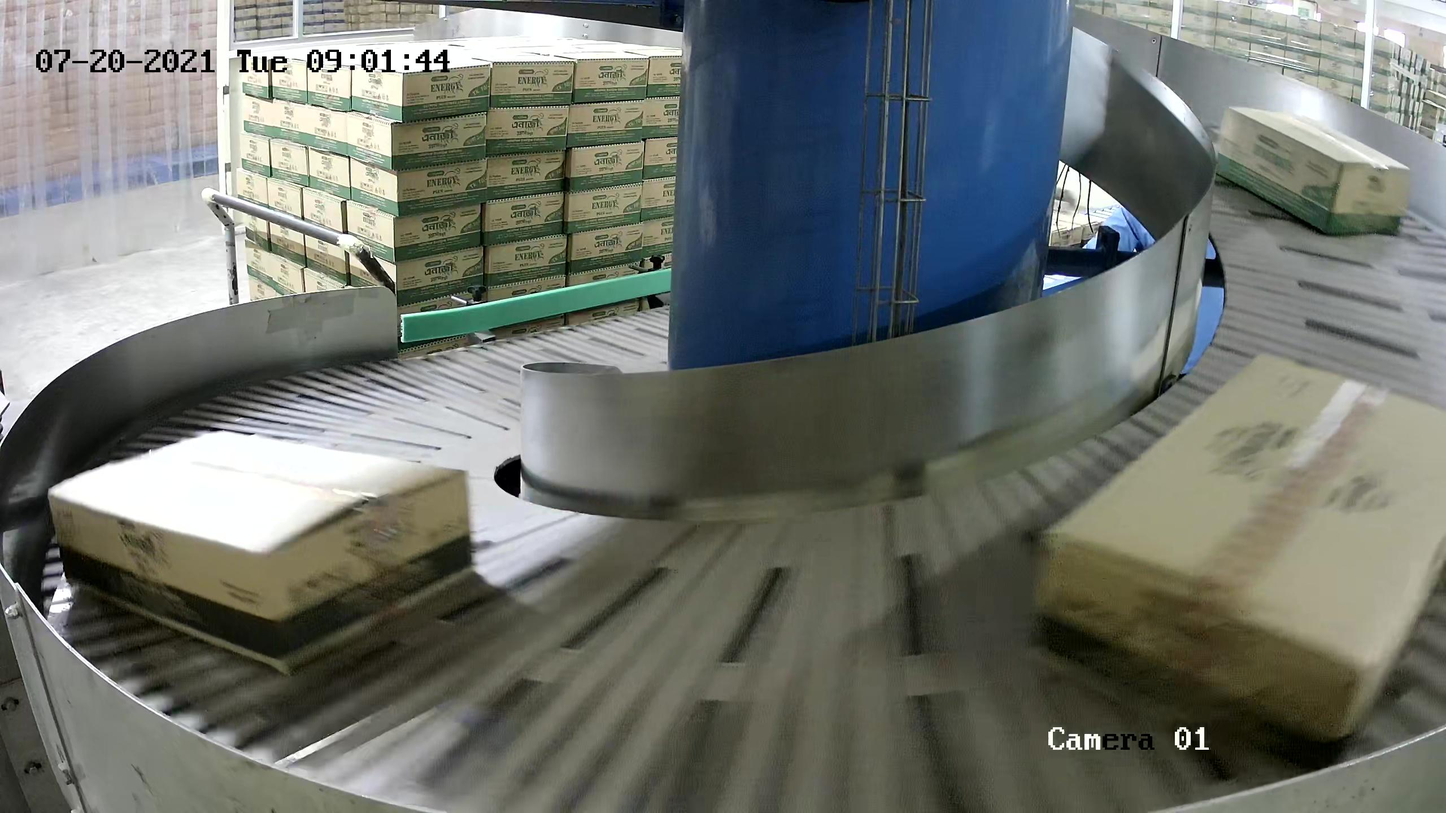Box: (1030, 346, 1446, 783), (45, 427, 478, 677), (1212, 104, 1412, 236)
